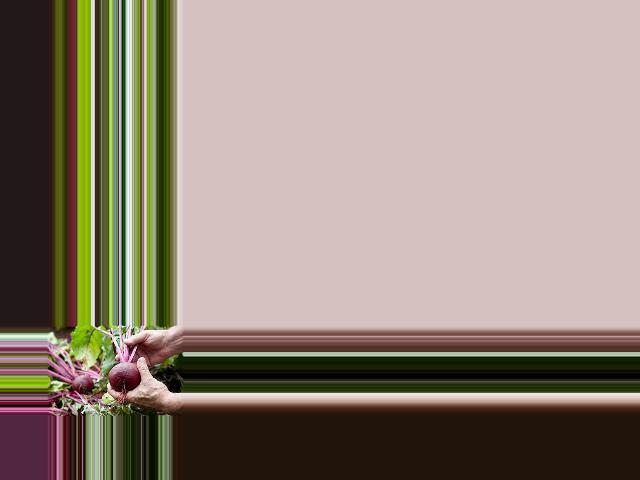beet: (90, 325, 142, 392)
